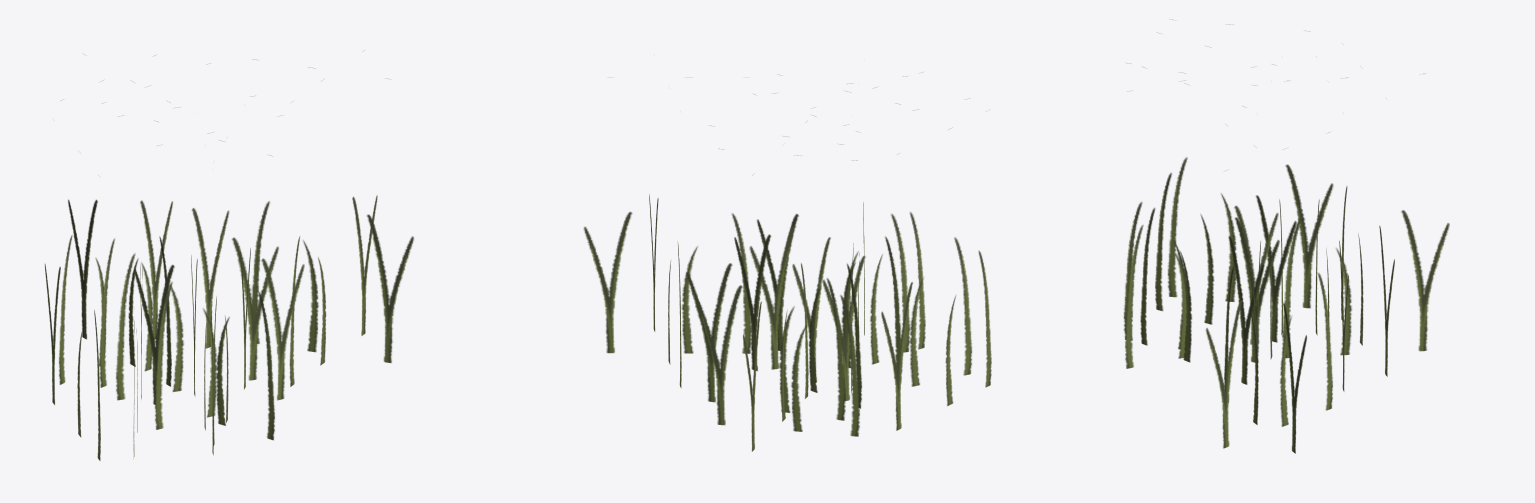
File: herbe.glb
3 views of the same model, side by side, from view 1: azimuth 30°, elevation 25°; view 2: azimuth 150°, elevation 25°; view 3: azimuth 270°, elevation 25° (orthographic). The views are drawn at different scales.
Parts seen in each view (by area): view 1: Plane.001; view 2: Plane.001; view 3: Plane.001.
Boxes of the visible parts, x1,y1,x2,y2 form: Plane.001: [45, 55, 413, 460]; Plane.001: [583, 76, 991, 451]; Plane.001: [1123, 19, 1449, 453].
Size of the model in its own units: 3.05 by 2 by 2.99.
1 material, 1 textured.
